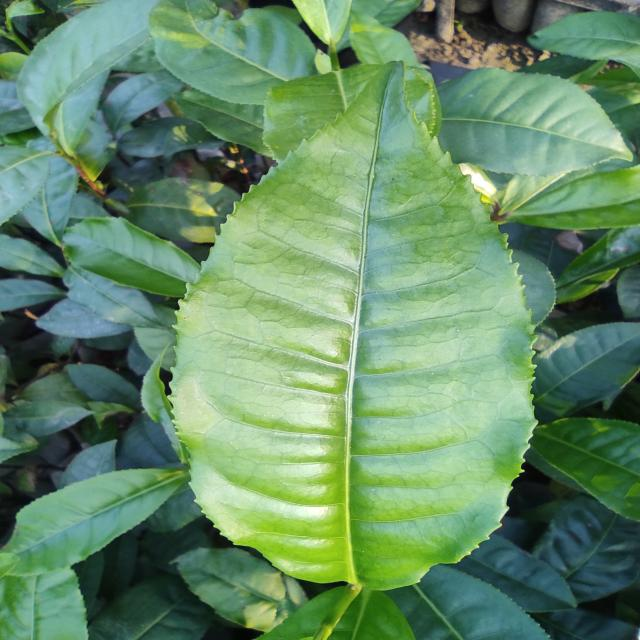Category D(7+ days, Not for Tea): (143, 50, 545, 616)
